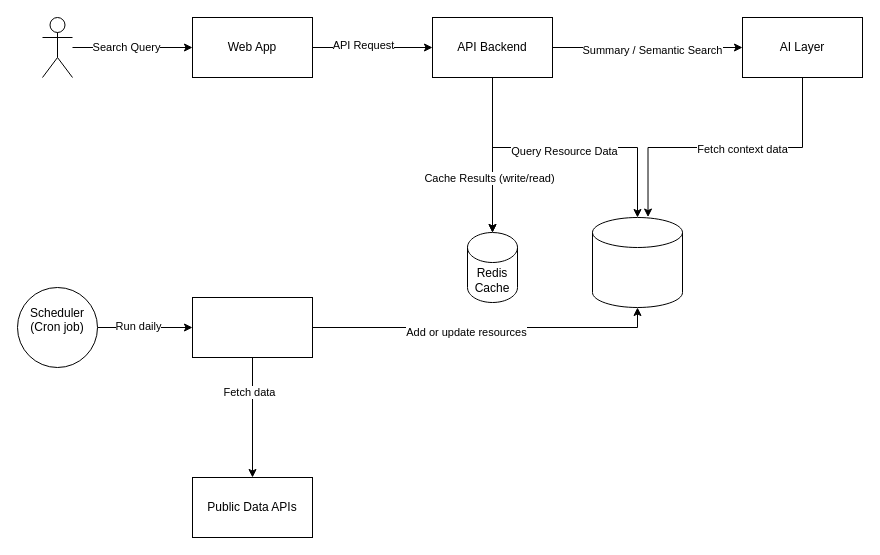
The diagram is 880 pixels wide and 555 high, and some of its shapes have lost their labels. The shapes that lost their labels are listed below. From the top down, each one's centre as x and y in pixels, then its label:
At point 57,47: "User".
At point 637,262: "PostgreSQL Database".
At point 252,327: "Ingestion Worker".
